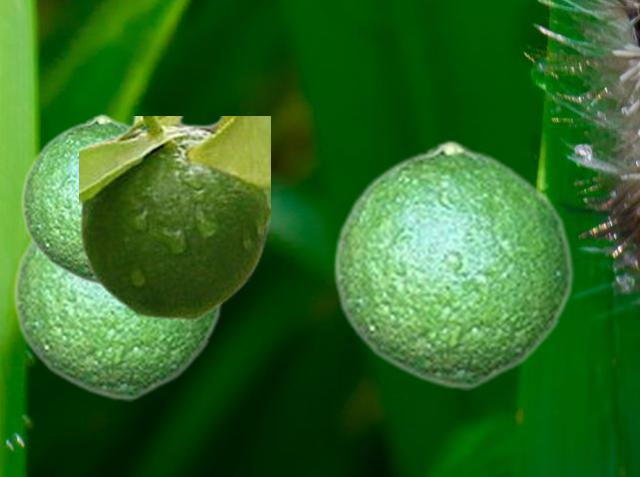dalandan: (331, 139, 573, 389), (79, 116, 269, 319), (11, 237, 221, 400), (19, 113, 130, 287)
